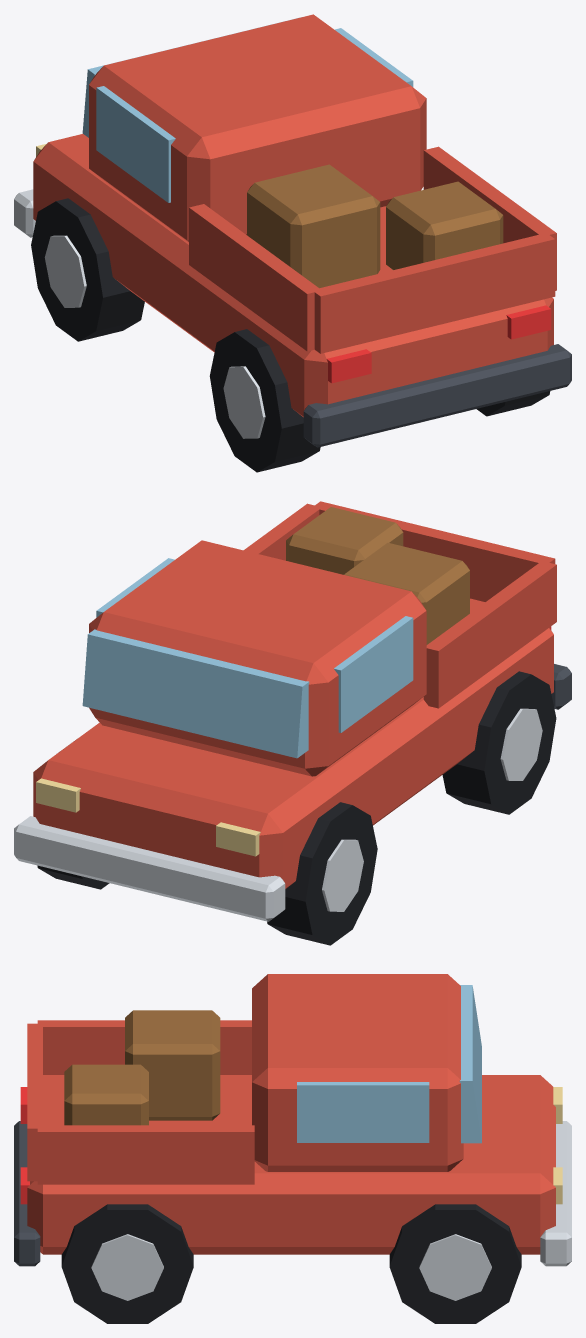
Rendered from pickup.glb.
The picture shows the model from 3 angles, top to bottom: view 1: azimuth 30°, elevation 25°; view 2: azimuth 150°, elevation 25°; view 3: azimuth 270°, elevation 25°; orthographic projection. The views are drawn at different scales.
Parts seen in each view (by area): view 1: Body, Wheel_0L, Wheel_1L, Wheel_1R; view 2: Body, Wheel_1L, Wheel_0L, Wheel_0R; view 3: Body, Wheel_0R, Wheel_1R.
Boxes of the visible parts, x1,y1,x2,y2 form: Body: (14, 14, 571, 447); Wheel_0L: (31, 198, 144, 341); Wheel_1L: (209, 329, 320, 472); Wheel_1R: (476, 391, 550, 416); Body: (14, 501, 571, 921); Wheel_1L: (442, 671, 556, 814); Wheel_0L: (267, 802, 377, 945); Wheel_0R: (37, 865, 109, 889); Body: (14, 974, 571, 1266); Wheel_0R: (389, 1204, 521, 1323); Wheel_1R: (61, 1204, 193, 1323).
Size of the model in its own units: 1.12 by 1.01 by 2.11.
Materials: 1 (1 with a texture image).
